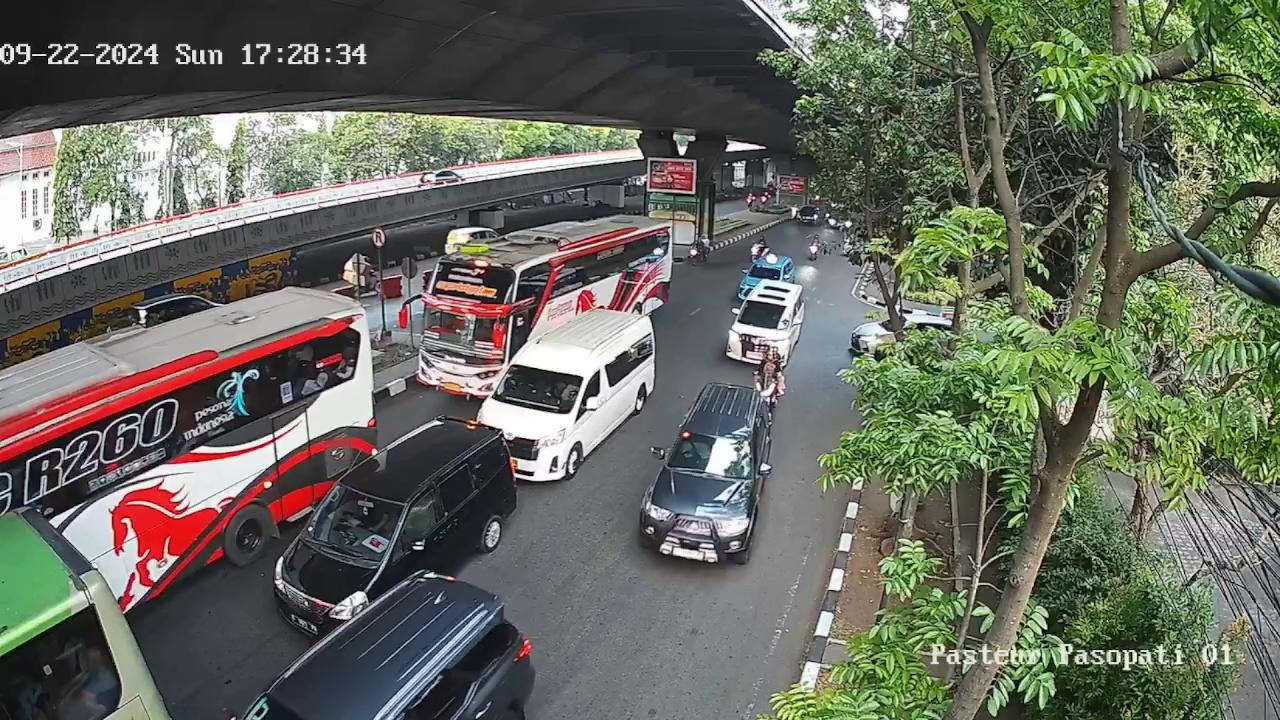pakai: (682, 439, 712, 464)
tidak-pakai: (352, 499, 388, 530)
windshield: (306, 487, 403, 552), (492, 366, 585, 412), (670, 429, 755, 479), (740, 296, 792, 329)
